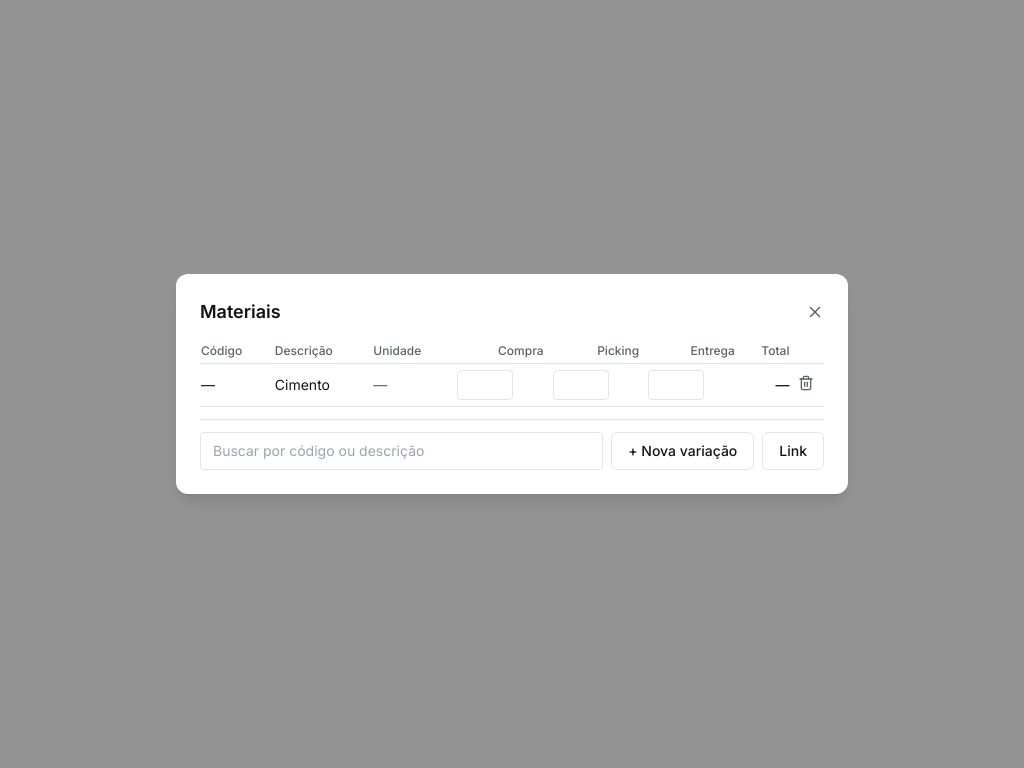
Test: MaterialsPopup › cancelar fecha o formulário de nova variação
Click the button "+ Nova variação": x=683, y=451 [611,432,754,470]
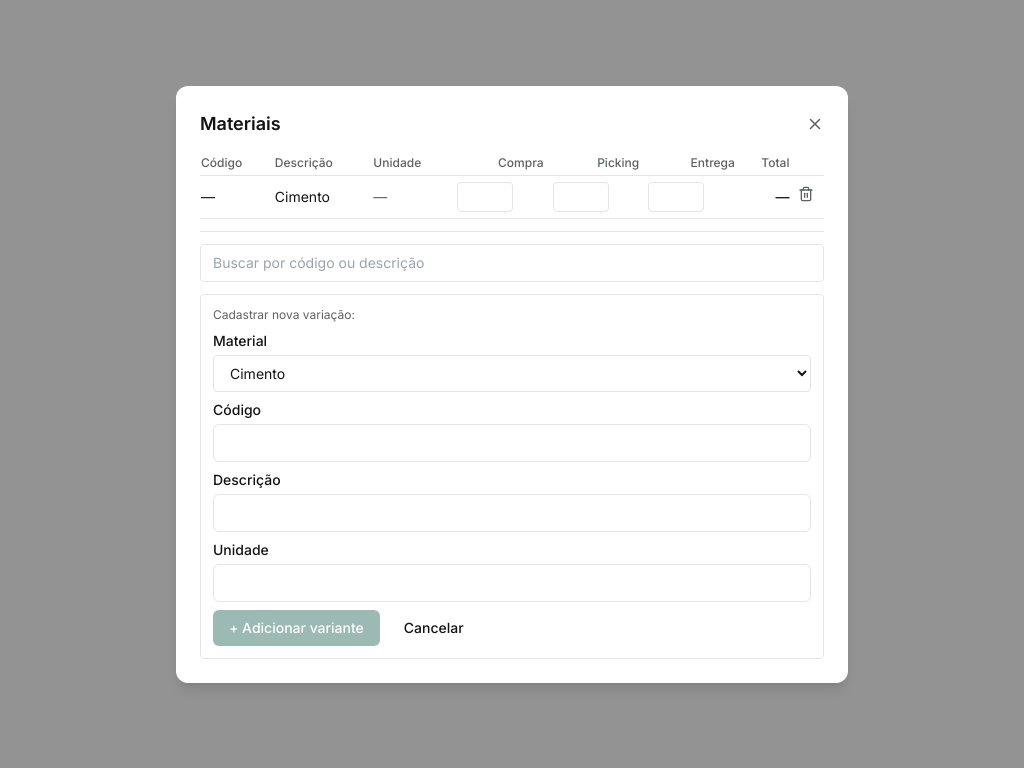
Click the button "Cancelar": x=434, y=628 [388,610,480,646]
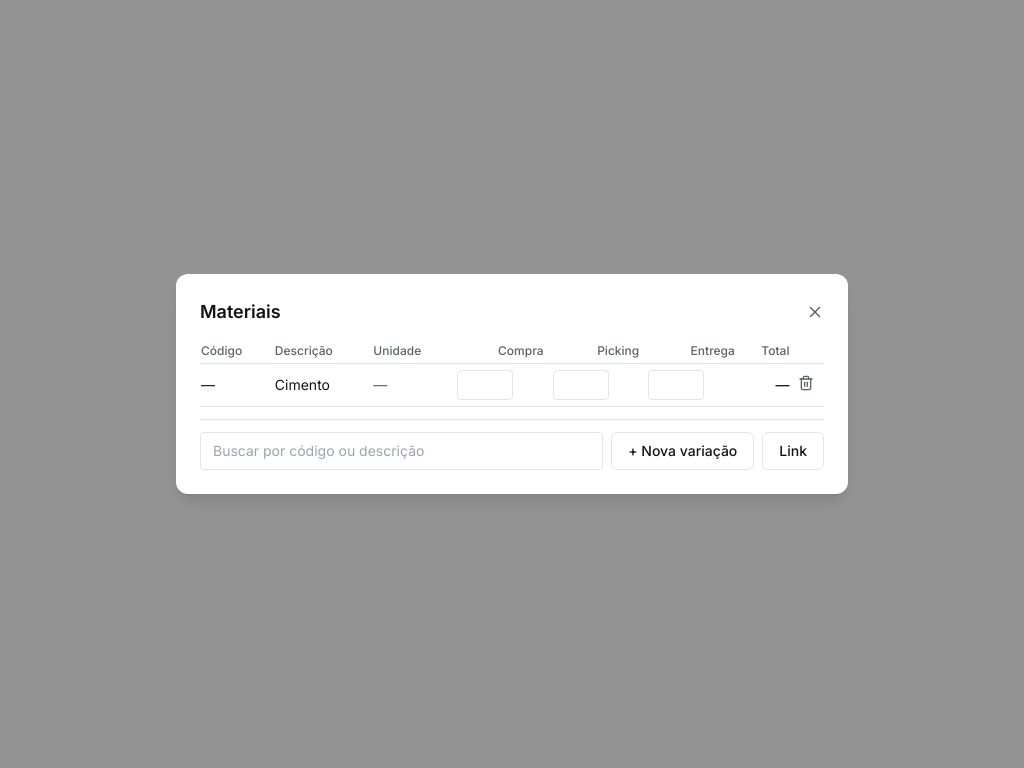
Now the label labelled "Material" is gone
